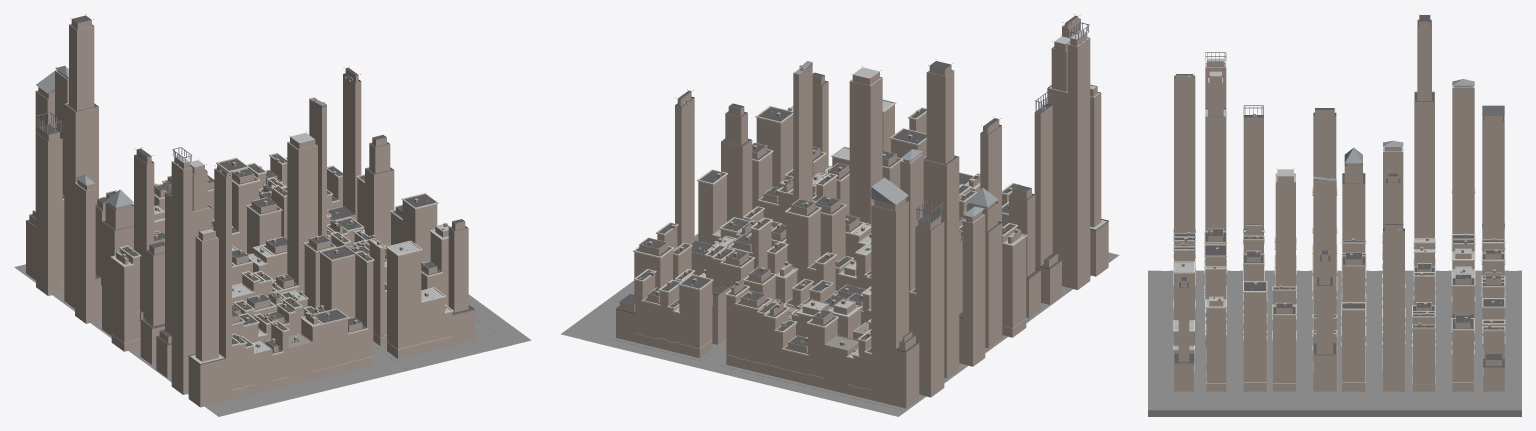
3 renders of one model, left to right at view 1: azimuth 30°, elevation 25°; view 2: azimuth 150°, elevation 25°; view 3: azimuth 270°, elevation 25°, orthographic. The views are drawn at different scales.
Visible parts, largest first — view 1: t31_facade, t31_roof, t31_detail, t31_ground; view 2: t31_facade, t31_roof, t31_detail, t31_ground; view 3: t31_facade, t31_ground, t31_detail, t31_roof.
Boxes of the visible parts, left/top/right/bottom form: t31_facade: left=26, top=19, right=475, bottom=407; t31_roof: left=27, top=14, right=473, bottom=363; t31_detail: left=26, top=24, right=475, bottom=390; t31_ground: left=14, top=264, right=531, bottom=416; t31_facade: left=616, top=16, right=1108, bottom=408; t31_roof: left=617, top=14, right=1106, bottom=357; t31_detail: left=615, top=18, right=1108, bottom=389; t31_ground: left=561, top=234, right=1119, bottom=416; t31_facade: left=1174, top=21, right=1504, bottom=391; t31_ground: left=1148, top=270, right=1521, bottom=416; t31_detail: left=1173, top=19, right=1505, bottom=384; t31_roof: left=1174, top=14, right=1504, bottom=366.
Size of the model in its own units: 386 by 338 by 430.
